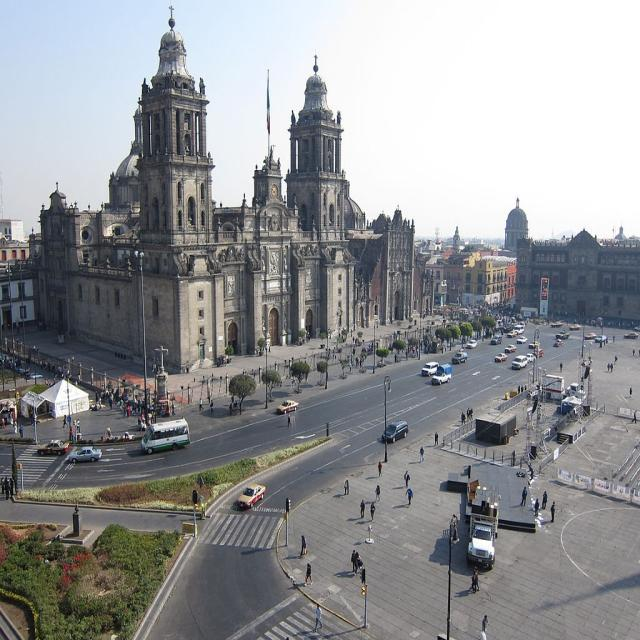body: (436, 298, 538, 329), (538, 305, 638, 328), (0, 351, 34, 380), (409, 336, 437, 359), (95, 380, 118, 398), (40, 358, 64, 374), (313, 602, 323, 632), (303, 561, 314, 587), (346, 514, 372, 525), (360, 342, 380, 356), (292, 628, 316, 638), (472, 565, 480, 593), (404, 485, 414, 507), (332, 570, 355, 579), (282, 552, 304, 561), (450, 512, 458, 536), (300, 534, 308, 557), (322, 344, 335, 358), (482, 614, 491, 634), (286, 581, 306, 590), (540, 490, 548, 511), (403, 468, 411, 489), (454, 587, 469, 598), (355, 552, 364, 570), (4, 478, 11, 501), (520, 486, 528, 506), (448, 522, 454, 548), (474, 568, 480, 592), (350, 549, 356, 573), (391, 502, 409, 510), (550, 500, 556, 523), (526, 464, 534, 481), (374, 483, 381, 502), (360, 498, 366, 520), (630, 408, 638, 424), (418, 446, 425, 464), (370, 502, 376, 523), (343, 478, 350, 496), (121, 387, 130, 401), (534, 498, 540, 518), (61, 413, 69, 428), (158, 402, 168, 414), (536, 402, 542, 420), (75, 417, 81, 435), (526, 389, 532, 407), (9, 478, 14, 499), (511, 449, 517, 466), (136, 398, 142, 415), (3, 474, 8, 494), (538, 518, 549, 527), (286, 411, 292, 427), (118, 397, 124, 412), (206, 390, 212, 405), (466, 407, 472, 422), (303, 331, 312, 341), (392, 484, 407, 490), (43, 376, 51, 387), (0, 477, 5, 494), (122, 404, 127, 421), (378, 461, 383, 478), (0, 416, 6, 430), (291, 372, 297, 386), (12, 418, 17, 434), (19, 422, 24, 438), (29, 408, 34, 424), (69, 426, 74, 442), (97, 394, 102, 410), (130, 397, 135, 413), (171, 401, 176, 417), (199, 396, 204, 412), (228, 401, 233, 417), (509, 501, 519, 509), (458, 342, 466, 352), (331, 492, 344, 498), (132, 395, 137, 410), (230, 393, 235, 408), (138, 415, 144, 427), (73, 378, 78, 392), (461, 412, 466, 426), (365, 475, 379, 480), (407, 460, 421, 465), (150, 407, 154, 424), (34, 409, 38, 426), (124, 430, 130, 441), (348, 361, 353, 374), (142, 399, 146, 415), (628, 386, 633, 398), (108, 395, 112, 410), (52, 375, 57, 387), (210, 398, 214, 413), (434, 431, 438, 446), (364, 499, 376, 504), (356, 353, 360, 367), (393, 353, 398, 364), (15, 323, 21, 332), (349, 328, 354, 338), (78, 372, 82, 384), (218, 355, 222, 367), (536, 328, 540, 339), (606, 361, 610, 372), (358, 358, 362, 369), (404, 349, 408, 360), (470, 408, 473, 422), (559, 362, 563, 372), (614, 355, 618, 365), (609, 362, 613, 372), (222, 356, 226, 366), (352, 345, 356, 355), (602, 338, 606, 347), (631, 348, 635, 357), (224, 354, 227, 366), (520, 385, 524, 393), (352, 335, 356, 343), (599, 338, 602, 348), (354, 336, 357, 346), (284, 634, 290, 639), (612, 332, 615, 342), (524, 384, 527, 391), (638, 348, 640, 358), (518, 385, 520, 395), (606, 336, 608, 344)
